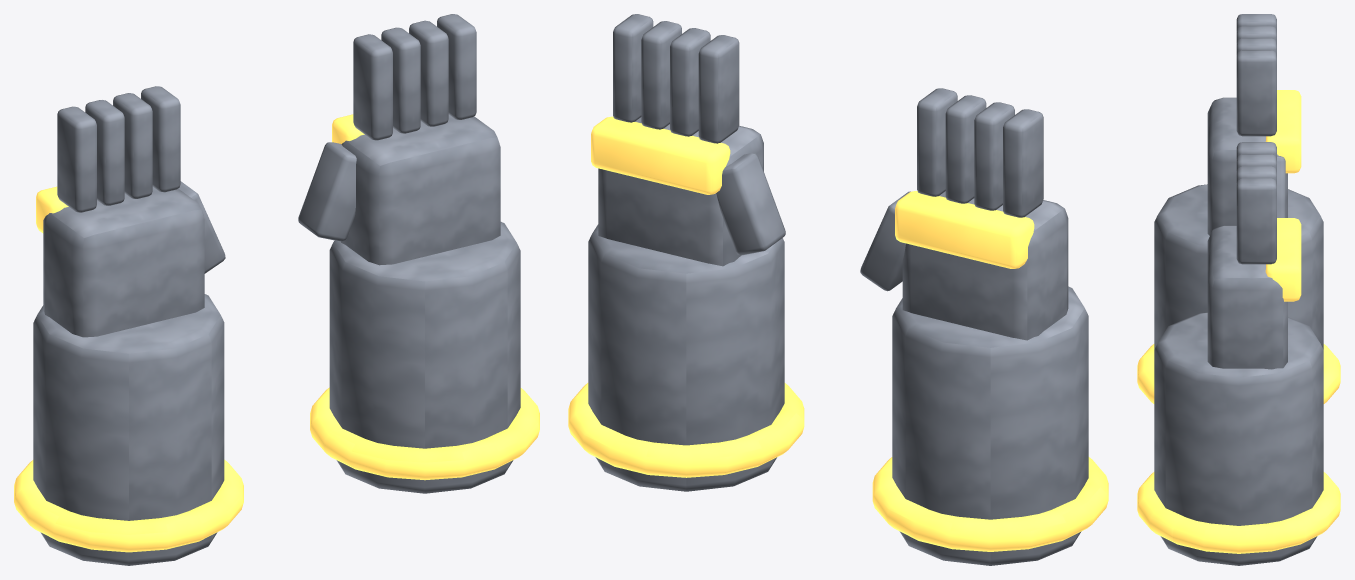
The model's file is mythic_gloves.glb.
3 views of the same model, side by side, from view 1: azimuth 30°, elevation 25°; view 2: azimuth 150°, elevation 25°; view 3: azimuth 270°, elevation 25° (orthographic). The views are drawn at different scales.
Parts seen in each view (by area): view 1: Cuff, Cuff.001, Palm, Palm.001, GoldBand, GoldBand.001, Thumb.001, F0, F0.001, F3, F2.001, F2 (+5 smaller); view 2: Cuff, Cuff.001, Palm, Palm.001, GoldBand, GoldBand.001, KnuckleCrest, KnuckleCrest.001, Thumb.001, F0.001, F0, F2 (+6 smaller); view 3: Cuff.001, Cuff, Palm.001, GoldBand.001, Palm, F3, F3.001, KnuckleCrest.001, KnuckleCrest, GoldBand, Thumb, F1.001 (+5 smaller).
Part boxes in pixels (x1,y1,x2,y2): Cuff: (33, 294, 224, 565); Cuff.001: (329, 222, 520, 493); Palm: (43, 187, 204, 337); Palm.001: (341, 114, 500, 265); GoldBand: (14, 459, 243, 552); GoldBand.001: (310, 387, 539, 480); Thumb.001: (298, 142, 356, 241); F0: (57, 106, 96, 212); F0.001: (353, 34, 392, 140); F3: (141, 86, 180, 192); F2.001: (409, 20, 448, 126); F2: (113, 93, 152, 198); Cuff: (892, 286, 1088, 565); Cuff.001: (588, 224, 784, 491); Palm: (902, 191, 1068, 340); Palm.001: (598, 117, 763, 266); GoldBand: (872, 457, 1108, 551); GoldBand.001: (568, 383, 804, 477); KnuckleCrest: (895, 191, 1034, 268); KnuckleCrest.001: (591, 116, 730, 194); Thumb.001: (716, 153, 785, 255); F0.001: (698, 35, 739, 143); F0: (1003, 109, 1043, 217); F2: (945, 95, 986, 203); Cuff.001: (1154, 312, 1323, 565); Cuff: (1154, 184, 1323, 349); Palm.001: (1207, 225, 1287, 369); GoldBand.001: (1137, 472, 1340, 553); Palm: (1207, 97, 1287, 235); F3: (1236, 50, 1276, 136); F3.001: (1236, 178, 1276, 264); KnuckleCrest.001: (1265, 218, 1301, 301); KnuckleCrest: (1265, 90, 1301, 173); GoldBand: (1137, 344, 1340, 403); Thumb: (1277, 156, 1285, 217); F1.001: (1236, 154, 1276, 170).
Size of the model in its own units: 0.572 by 0.46 by 0.2285.
3 materials, 3 textured.
